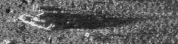ship: (18, 12, 55, 33)
